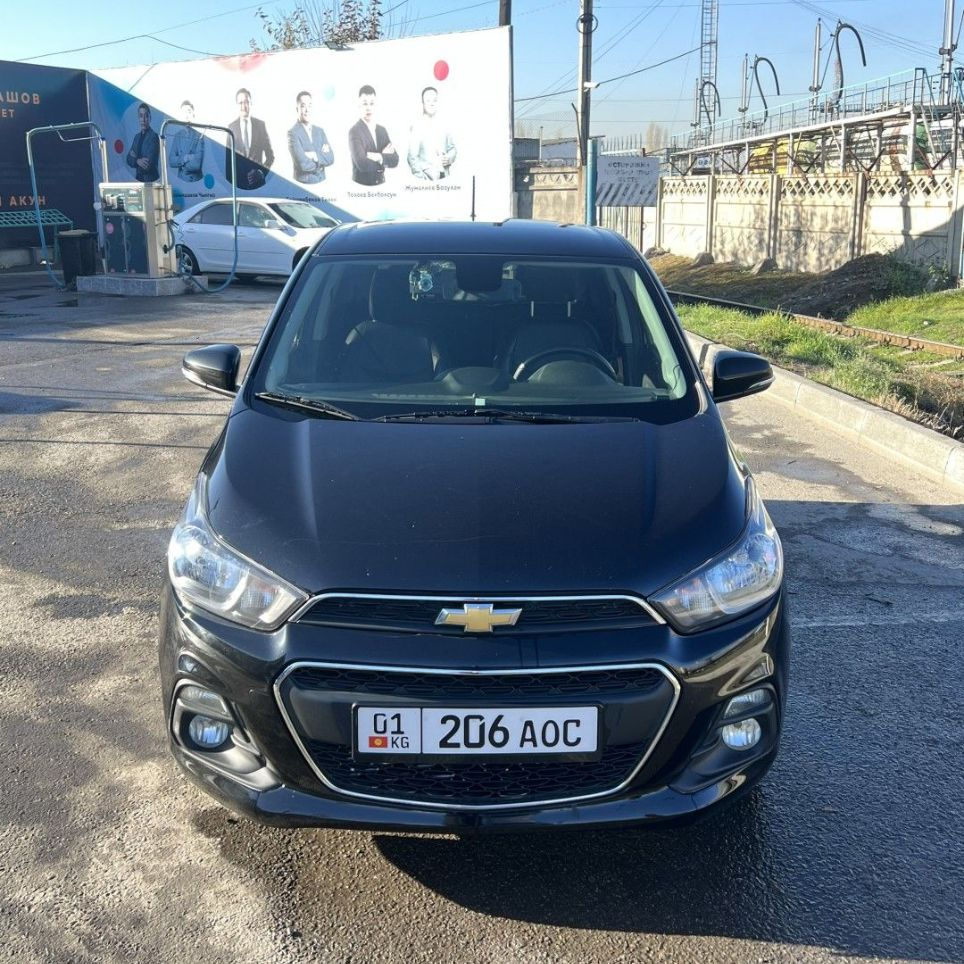license plate: (353, 705, 599, 759)
truck: (159, 216, 799, 841)
